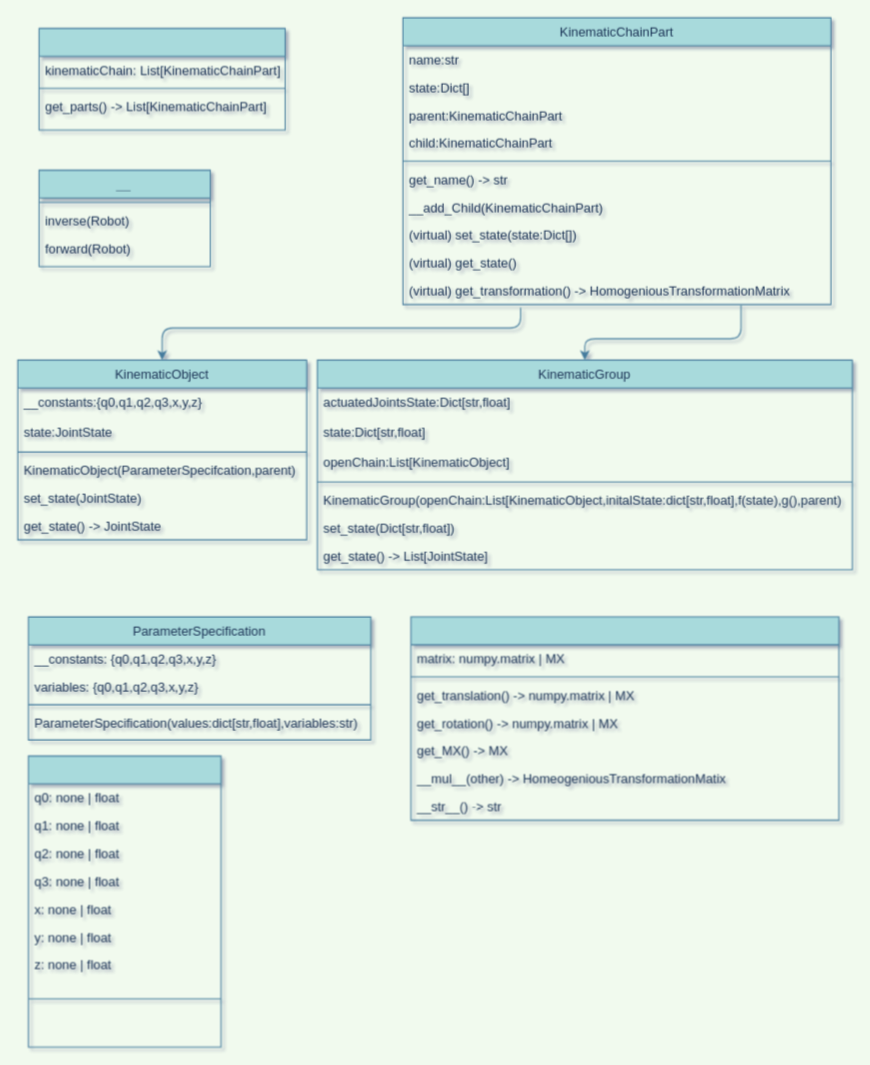
Image size: 870x1065. Some labels were removed from this diagram. The box of each missing label's shape, as (x1, y1, x2, y2) in pixels:
HomogeniousTransformationMatrix: (410, 616, 839, 820)
JointState: (27, 755, 221, 1047)
Robot: (38, 27, 285, 130)
